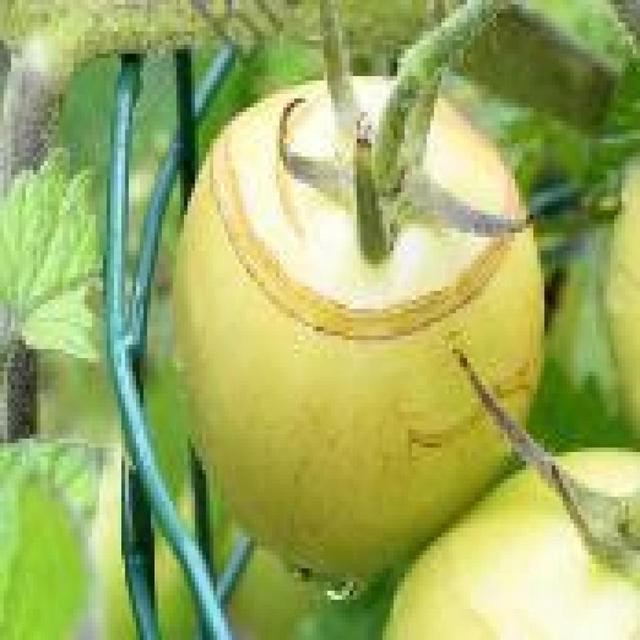Cracking Fruit: (131, 65, 354, 232)
